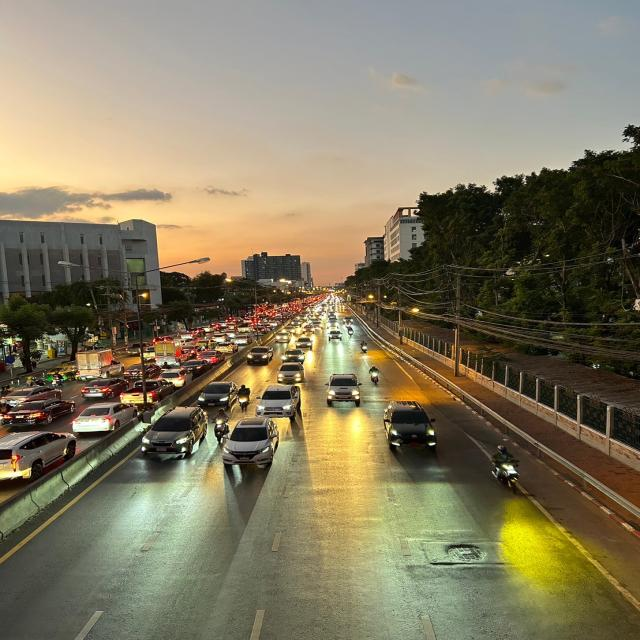bike: (487, 441, 529, 492)
